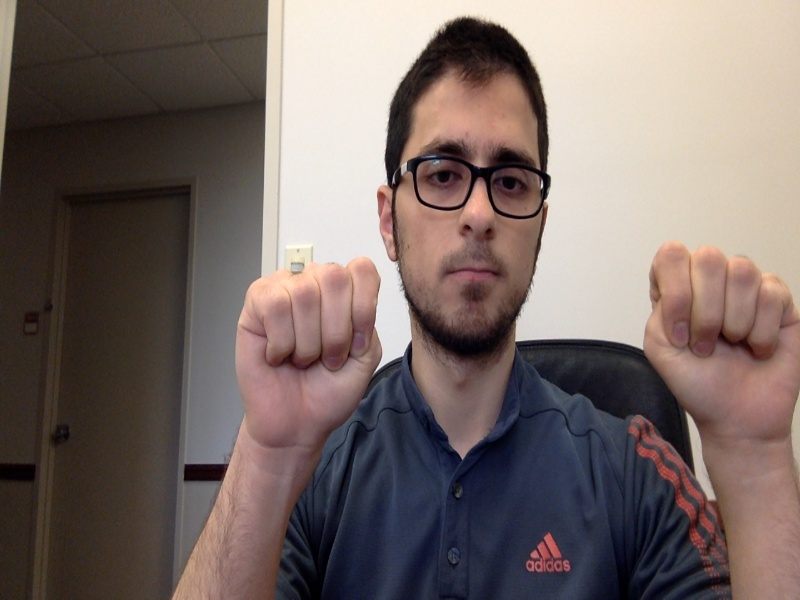0-hand: (645, 243, 800, 440), (233, 258, 383, 444)
